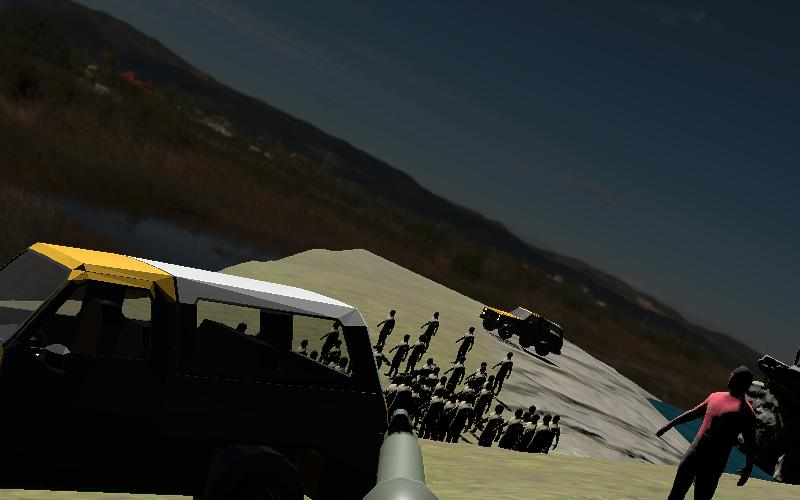Human: (656, 361, 778, 500)
car: (0, 242, 399, 494), (480, 302, 564, 357)
